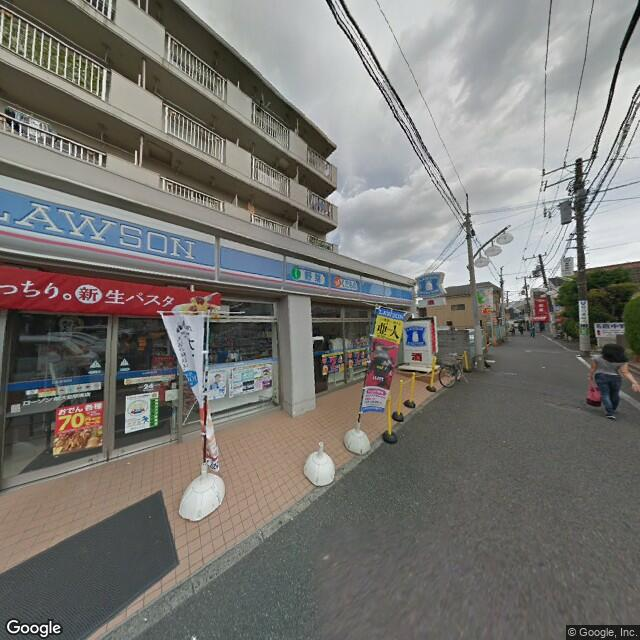lawson: (1, 171, 412, 307), (411, 271, 444, 300), (402, 317, 429, 350)
